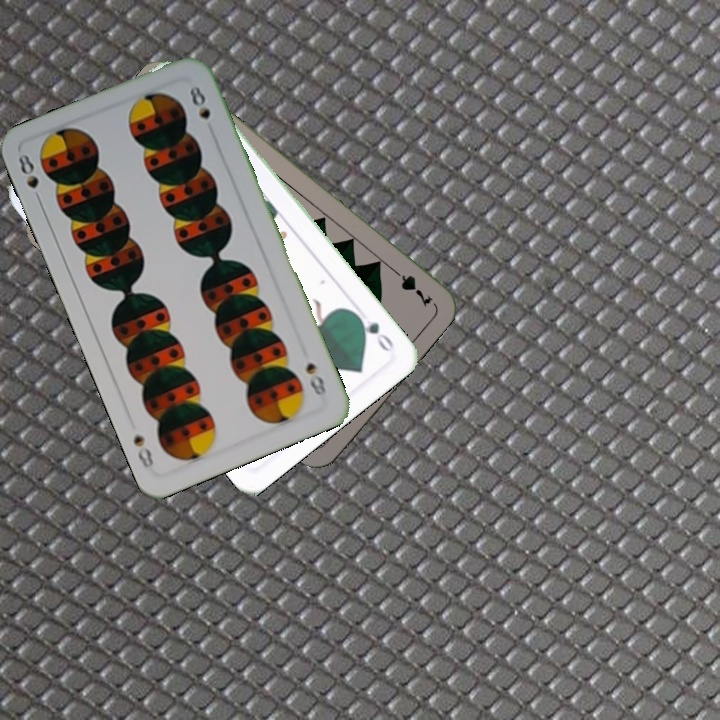G7: (386, 262, 436, 310)
GO: (350, 308, 397, 355)
S8: (14, 149, 45, 207), (300, 358, 329, 401)
